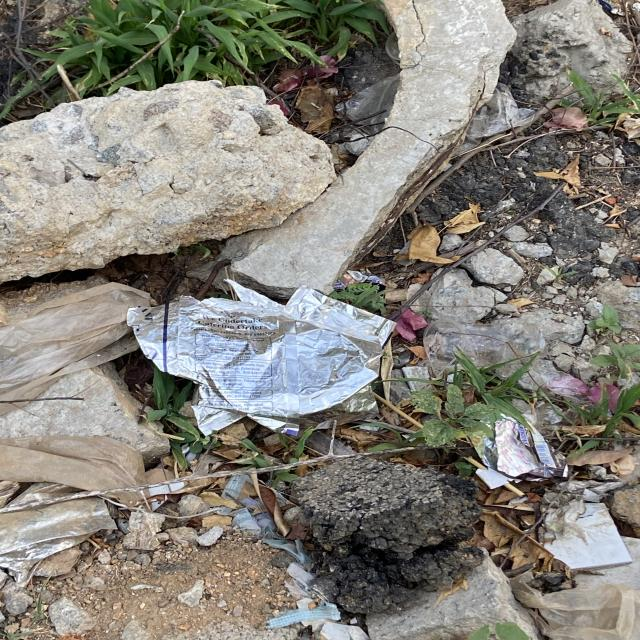metal: (126, 279, 395, 435)
paper: (495, 419, 541, 478)
plastic: (0, 283, 155, 440), (511, 576, 640, 640), (0, 434, 144, 491), (423, 318, 546, 376), (0, 499, 113, 562), (460, 82, 536, 151), (335, 73, 400, 124)
wrapper: (518, 424, 566, 471)
